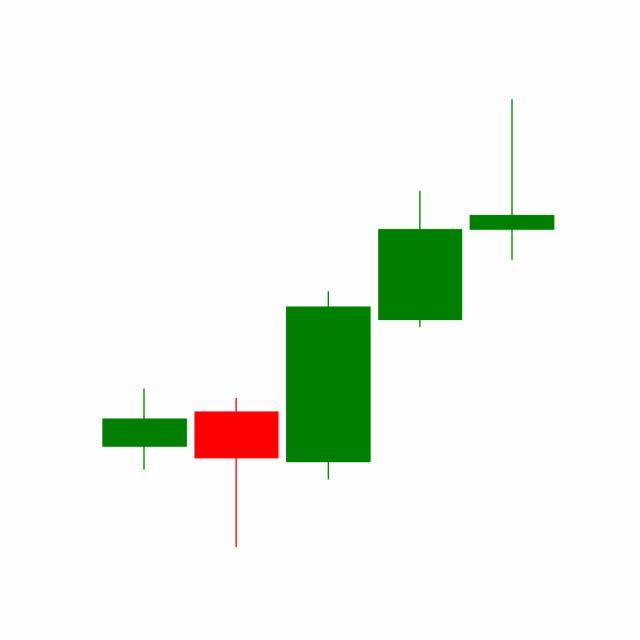Three Outside Up-Down: (190, 187, 467, 548)
